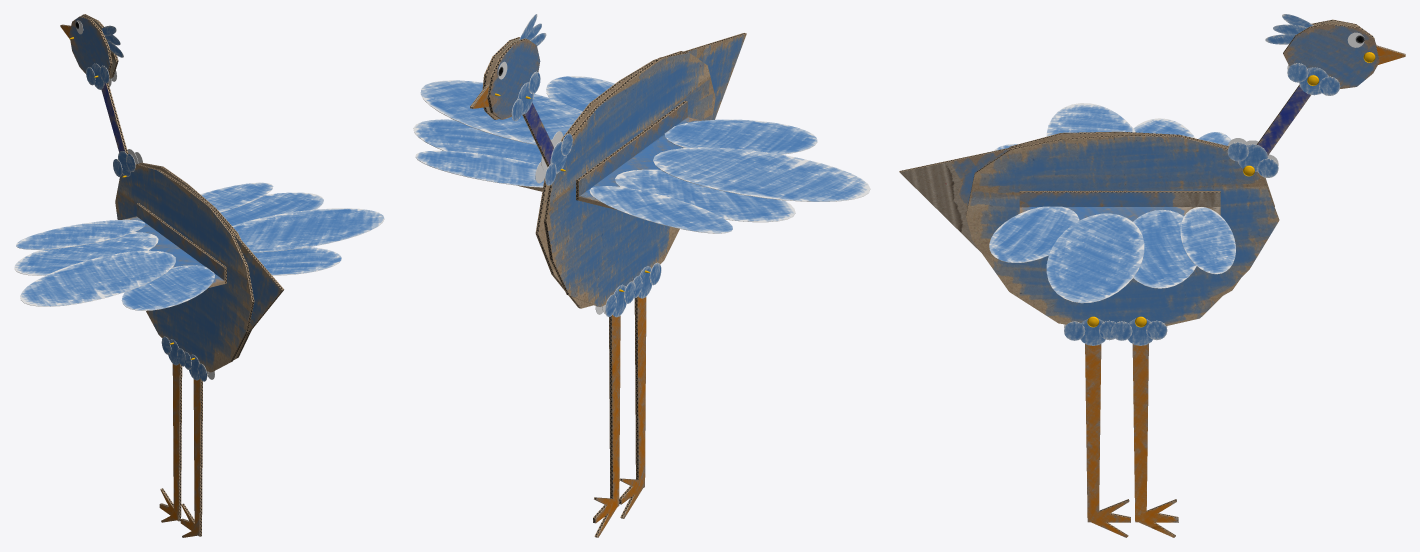
Rendered from GeniusCharacter2.fbx.
The picture shows the model from 3 angles, left to right: view 1: azimuth 30°, elevation 25°; view 2: azimuth 150°, elevation 25°; view 3: azimuth 270°, elevation 25°; orthographic projection. The views are drawn at different scales.
Parts seen in each view (by area): view 1: BodyLeft, WingFeather.006, WingFeather.002, WingFeather.005, WingFeather.004, WingFeather.007, WingFeather.001, WingFeather, Leg.001, Leg, HeadLeft, Tail (+5 smaller); view 2: BodyLeft, WingFeather.006, WingFeather.002, WingFeather.005, WingFeather.004, WingFeather.007, WingFeather.001, WingFeather.003, Leg, Leg.001, HeadLeft, WingBase.002 (+5 smaller); view 3: BodyRight, WingFeather.002, HeadRight, Tail, WingFeather.001, WingFeather, WingBase, Leg, Leg.001, WingFeather.003, WingFeather.006, Neck (+3 smaller).
Boxes of the visible parts, x1=… form: BodyLeft: x1=115, y1=164, x2=254, y2=372; WingFeather.006: x1=20, y1=250, x2=175, y2=306; WingFeather.002: x1=232, y1=208, x2=384, y2=252; WingFeather.005: x1=14, y1=232, x2=158, y2=275; WingFeather.004: x1=121, y1=265, x2=214, y2=310; WingFeather.007: x1=16, y1=219, x2=145, y2=249; WingFeather.001: x1=220, y1=192, x2=323, y2=225; WingFeather: x1=252, y1=247, x2=341, y2=275; Leg.001: x1=159, y1=363, x2=182, y2=522; Leg: x1=180, y1=378, x2=202, y2=537; HeadLeft: x1=69, y1=16, x2=112, y2=75; Tail: x1=229, y1=228, x2=284, y2=338; BodyLeft: x1=543, y1=52, x2=715, y2=306; WingFeather.006: x1=653, y1=147, x2=870, y2=201; WingFeather.002: x1=420, y1=80, x2=582, y2=144; WingFeather.005: x1=615, y1=169, x2=795, y2=222; WingFeather.004: x1=664, y1=119, x2=817, y2=154; WingFeather.007: x1=589, y1=186, x2=732, y2=233; WingFeather.001: x1=413, y1=119, x2=541, y2=164; WingFeather.003: x1=415, y1=150, x2=544, y2=187; Leg: x1=619, y1=296, x2=646, y2=518; Leg.001: x1=593, y1=315, x2=620, y2=537; HeadLeft: x1=487, y1=38, x2=540, y2=119; WingBase.002: x1=576, y1=100, x2=687, y2=200; BodyRight: x1=966, y1=134, x2=1279, y2=325; WingFeather.002: x1=1046, y1=213, x2=1144, y2=303; HeadRight: x1=1283, y1=23, x2=1379, y2=88; Tail: x1=899, y1=145, x2=1021, y2=251; WingFeather.001: x1=1133, y1=210, x2=1196, y2=288; WingFeather: x1=989, y1=206, x2=1079, y2=262; WingBase: x1=1019, y1=191, x2=1220, y2=206; Leg: x1=1085, y1=344, x2=1130, y2=537; Leg.001: x1=1132, y1=343, x2=1178, y2=537; WingFeather.003: x1=1180, y1=207, x2=1235, y2=274; WingFeather.006: x1=1046, y1=103, x2=1135, y2=136; Neck: x1=1256, y1=85, x2=1310, y2=155.
Size of the model in its own units: 3.06 by 3.27 by 3.74.
